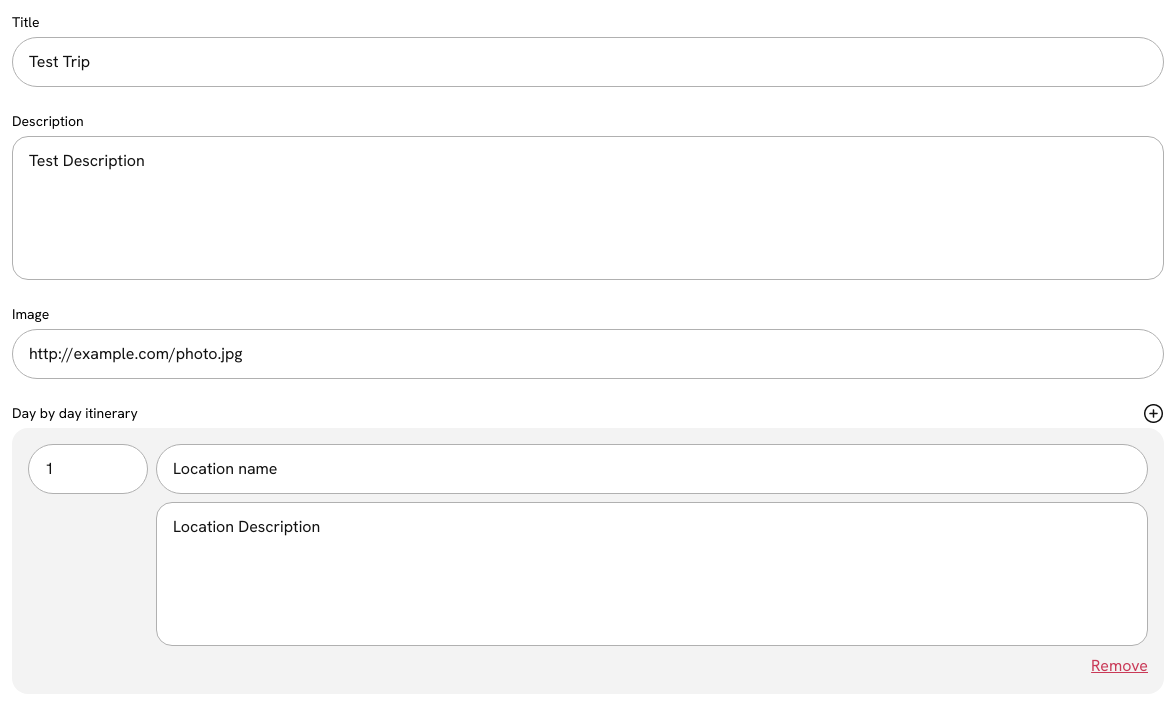
Scenario: TripForm › handles adding and removing itinerary items
Click the button named "Add itinerary item" at (1154, 414), box [1143, 403, 1164, 424]
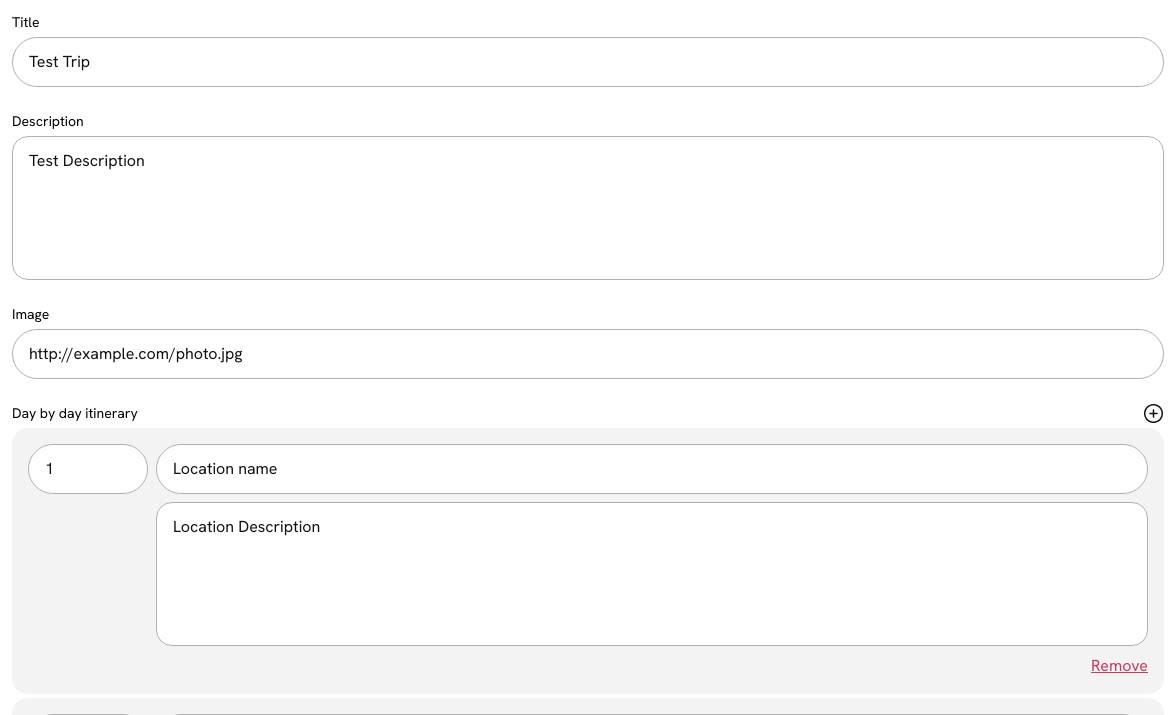
Click the button "Remove" at (1120, 666), box [1091, 654, 1148, 678]
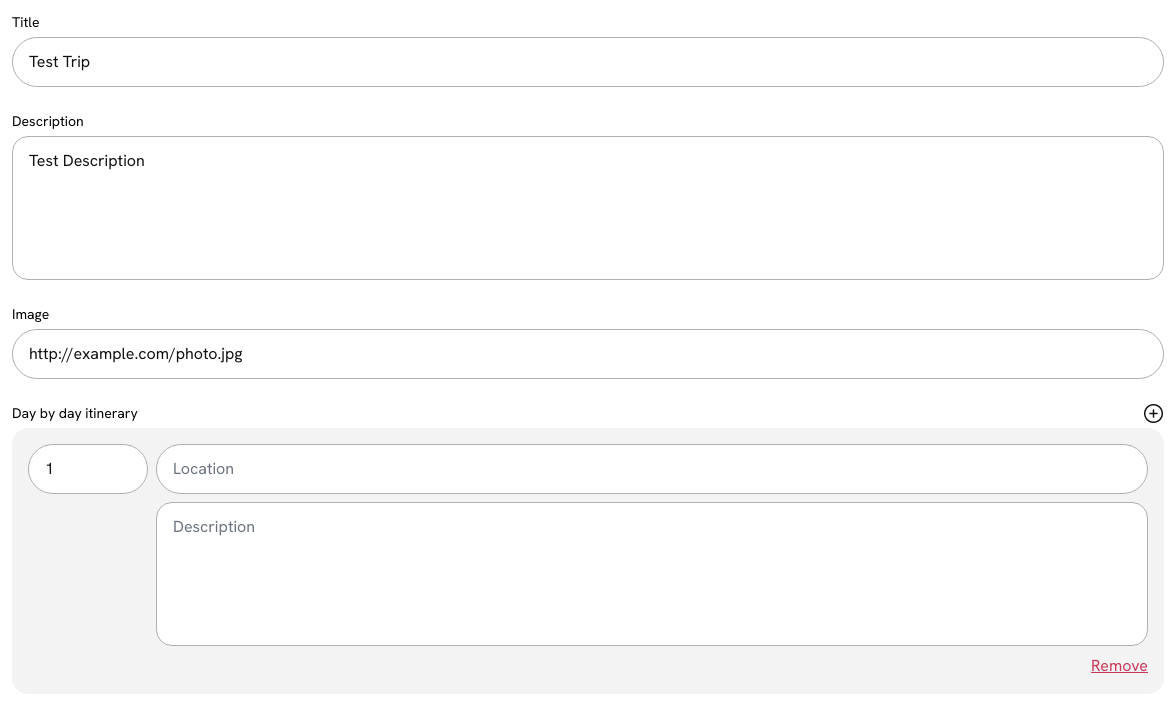
Check: the number of fields with placeholder "Location" is 1, box [156, 444, 1148, 494]
